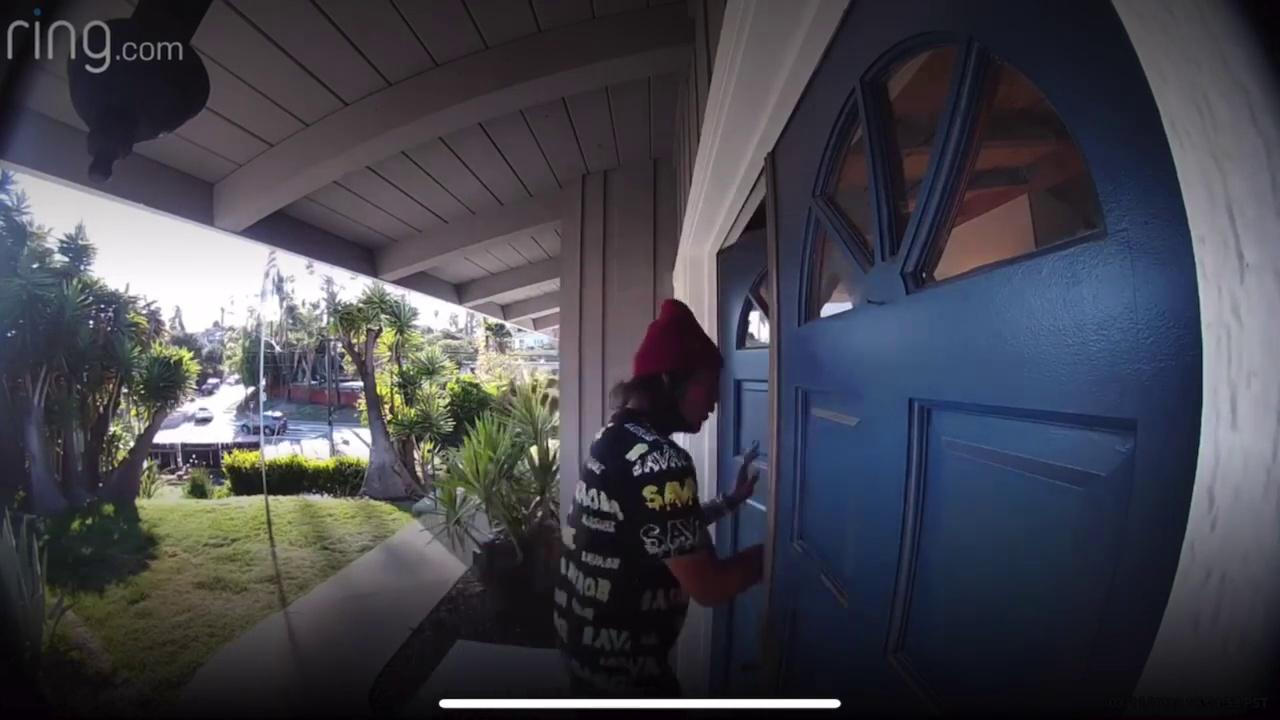suspicion: (526, 248, 810, 684), (0, 118, 152, 440)
